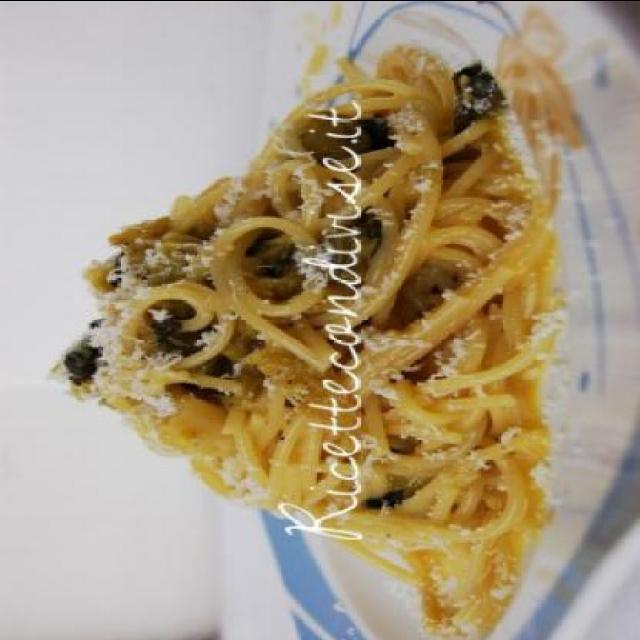Pasta with carbonara sauce: (51, 74, 587, 548)
